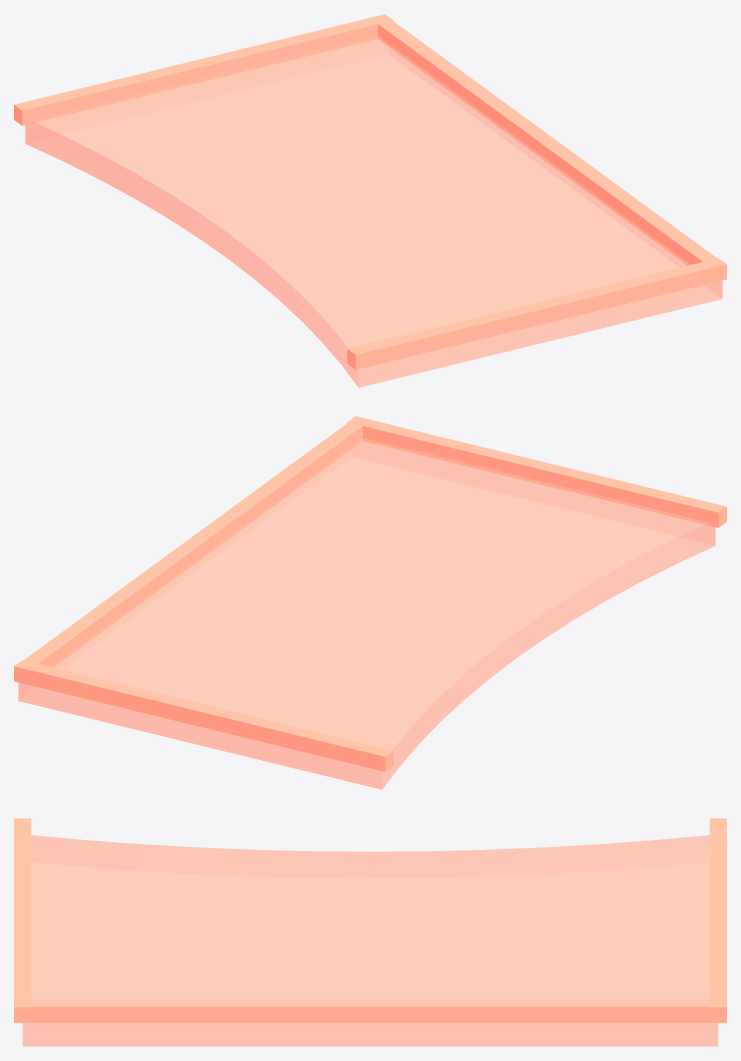
File: Pier_Ghost_Retract_v2.glb
3 views of the same model, one above another, from view 1: azimuth 30°, elevation 25°; view 2: azimuth 150°, elevation 25°; view 3: azimuth 270°, elevation 25° (orthographic). The views are drawn at different scales.
Parts seen in each view (by area): view 1: Pier_Ghost_Retract_v2; view 2: Pier_Ghost_Retract_v2; view 3: Pier_Ghost_Retract_v2.
Boxes of the visible parts, x1,y1,x2,y2 form: Pier_Ghost_Retract_v2: (14, 14, 726, 387); Pier_Ghost_Retract_v2: (14, 416, 726, 789); Pier_Ghost_Retract_v2: (14, 818, 726, 1046).
Size of the model in its own units: 1.8 by 0.175 by 2.87.
